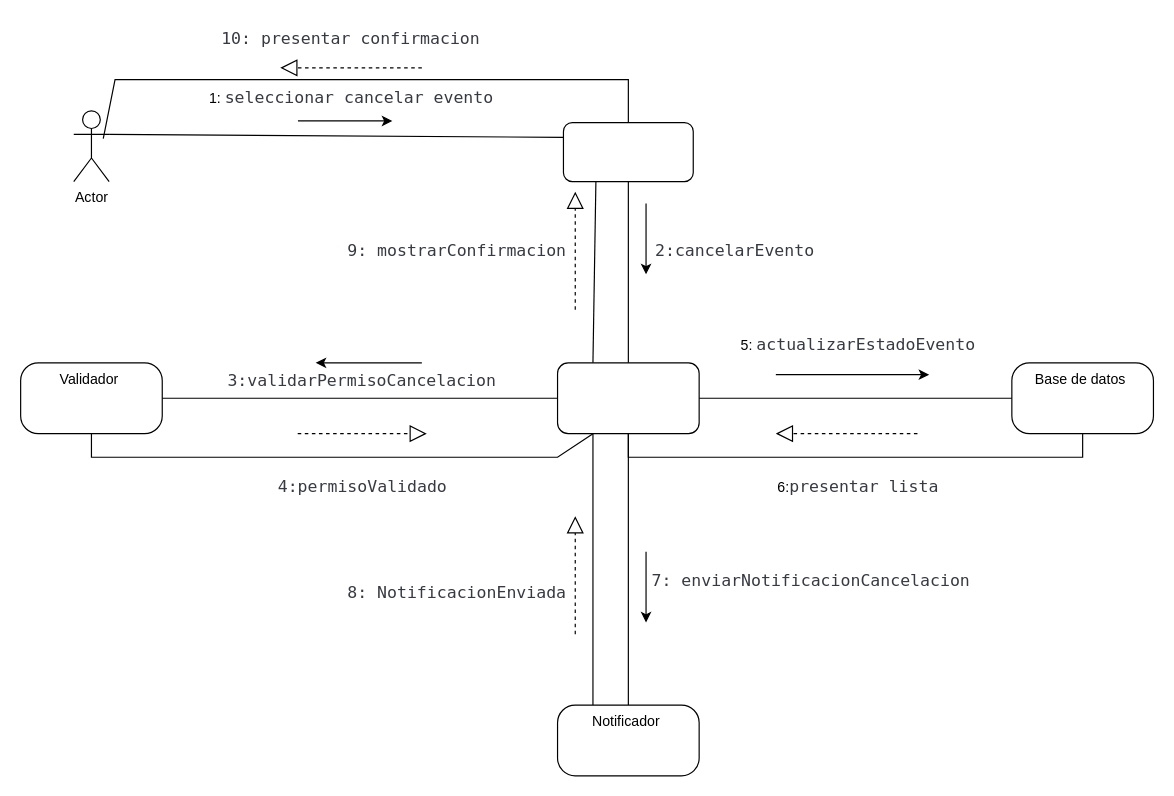
Image size: 1174x796. Some labels were removed from this diagram. Each missing label, with the centre of its shape:
contralador: point 627,398
Interfaz: point 627,151
